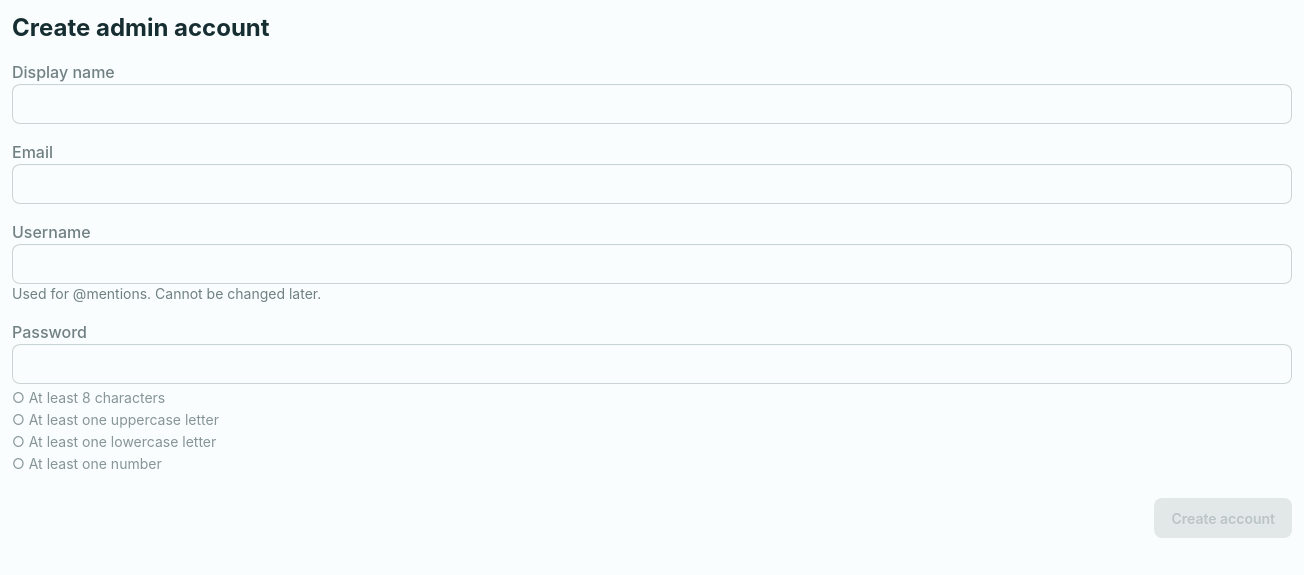
it: first administrator step: username › does not allow a reserved or invalid username
In the field with id "admin-name": (652, 104) left=12, top=84, right=1292, bottom=124, type "Root"
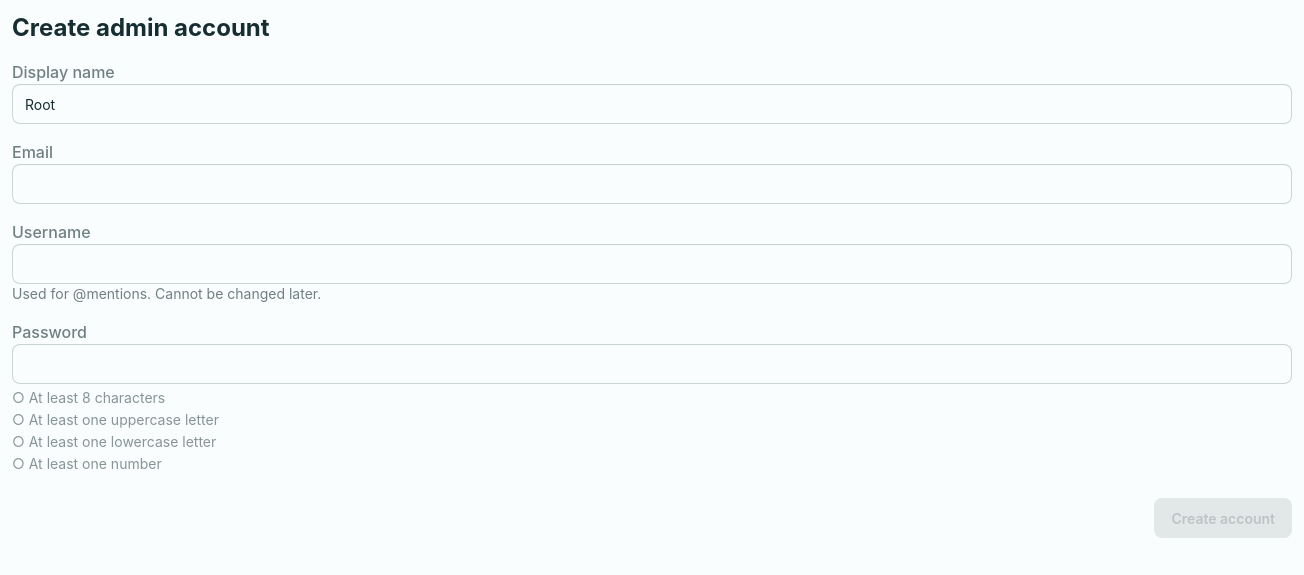
In the field with id "admin-email": (652, 184) left=12, top=164, right=1292, bottom=204, type "admin@example.com"
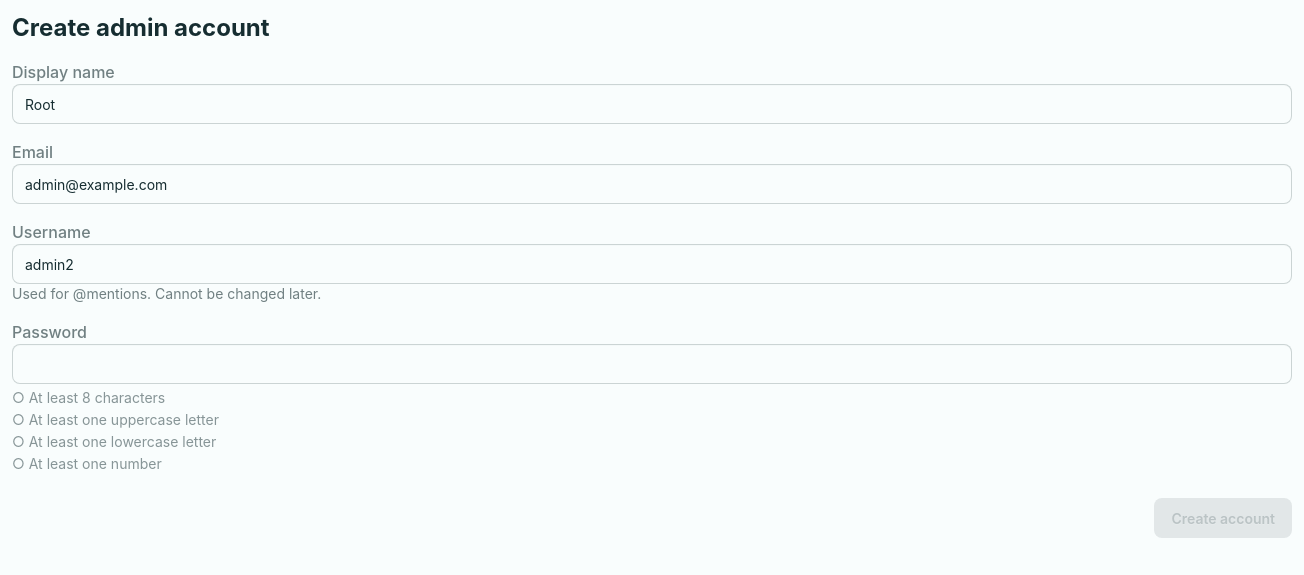
In the password field with id "admin-password": (652, 364) left=12, top=344, right=1292, bottom=384, type "Passw0rd!x"
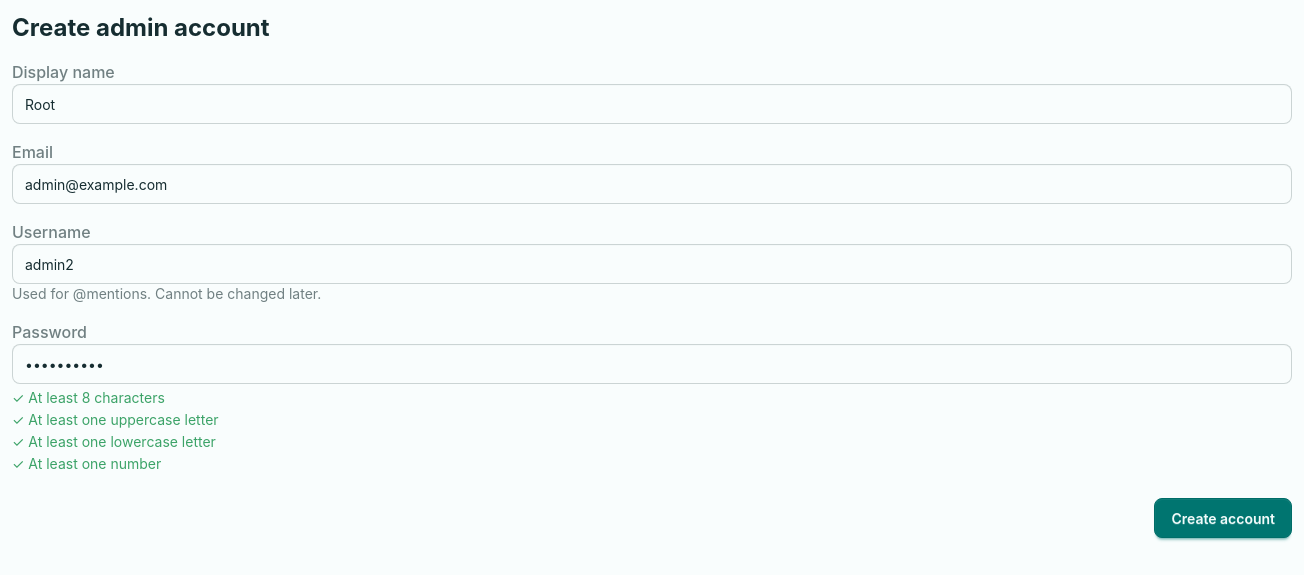
Replace the text in the field with id "admin-username" with "admin": (652, 264) left=12, top=244, right=1292, bottom=284
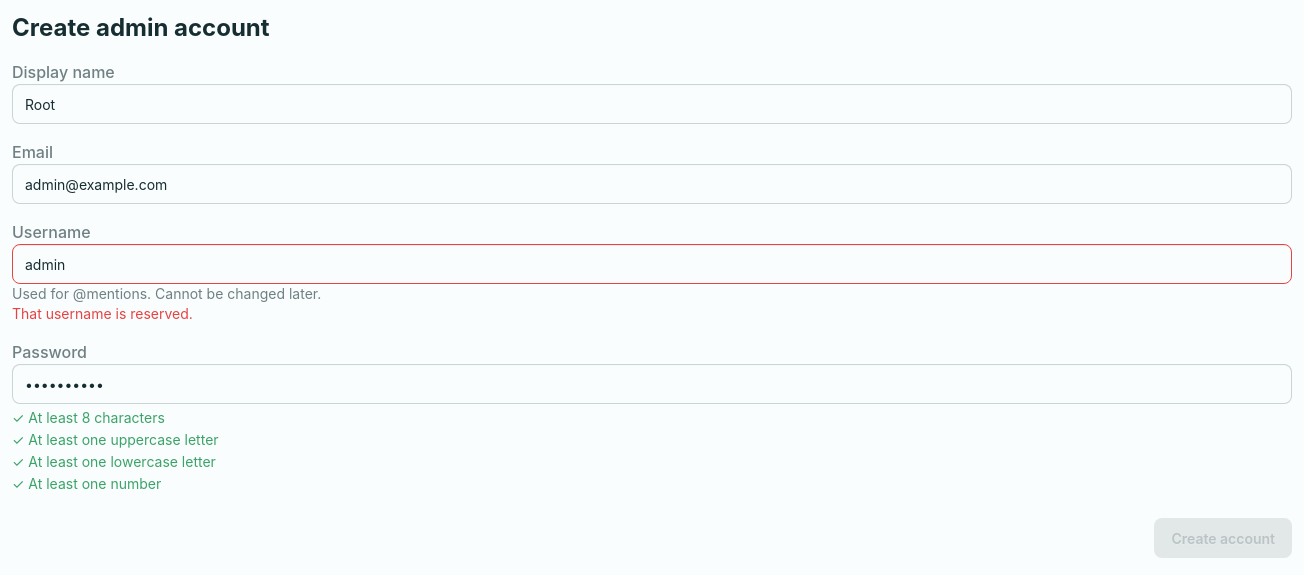
expect the button "Create account" is disabled: met, box left=1154, top=518, right=1292, bottom=558
expect the text "That username is reserved." is shown: met, box left=12, top=305, right=193, bottom=322
